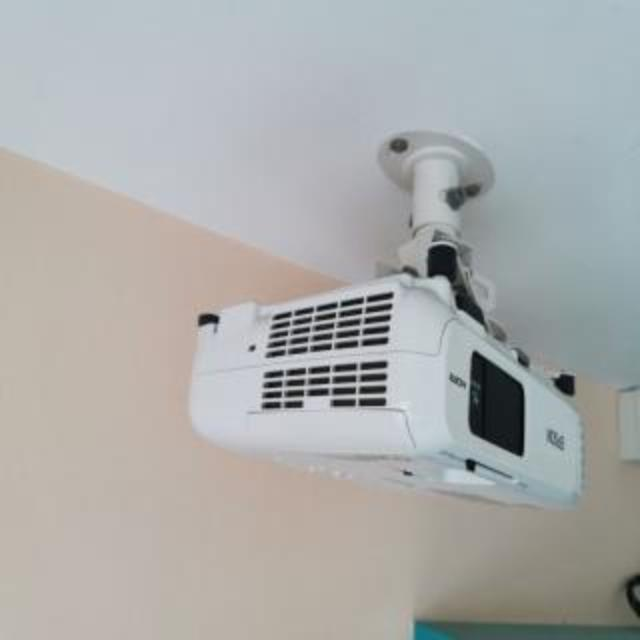Projector: (190, 282, 588, 516)
